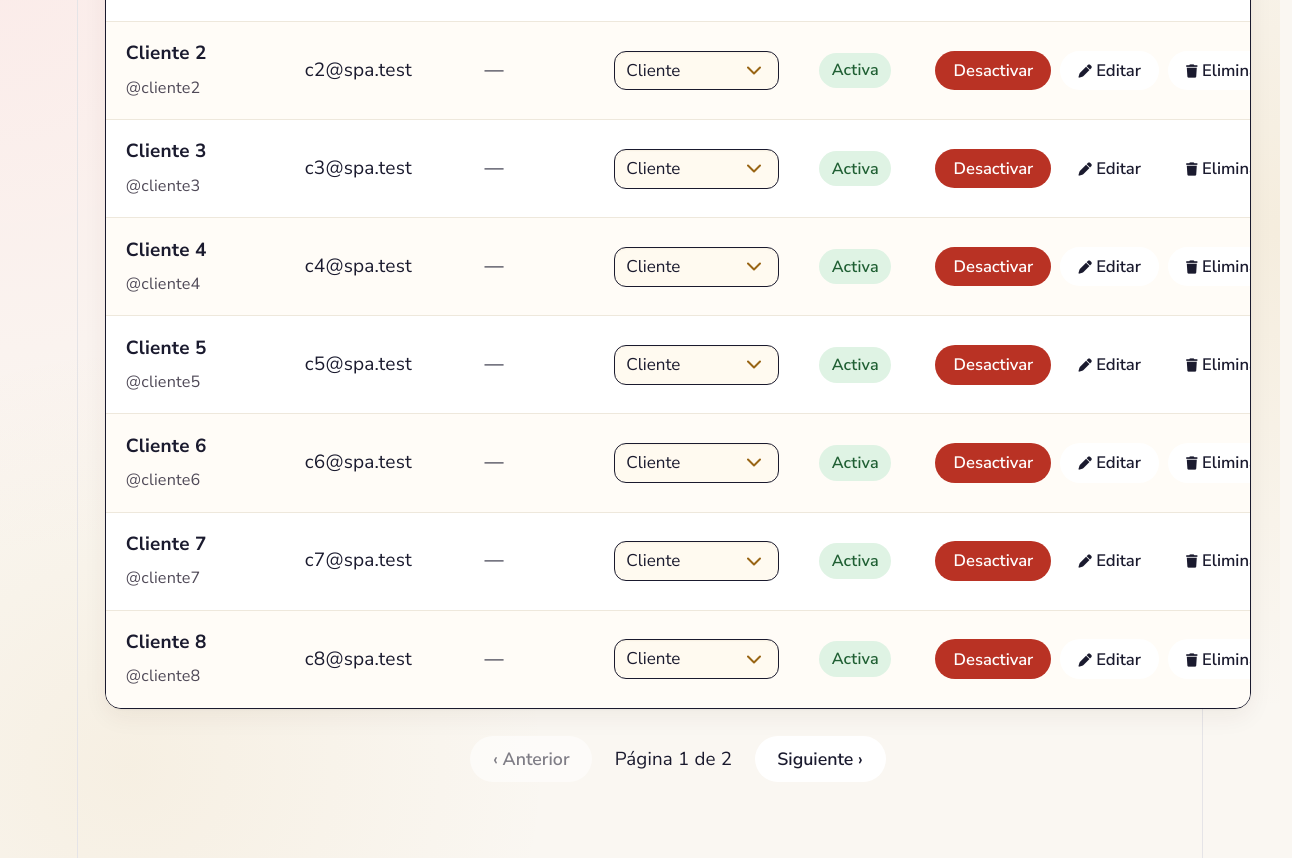
Test: AdminUsers › vuelve a la página anterior si eliminar deja vacía la última
(page scrolled)
Click the button "Siguiente ›" at point(820, 759), box [755, 736, 886, 782]
(page scrolled)
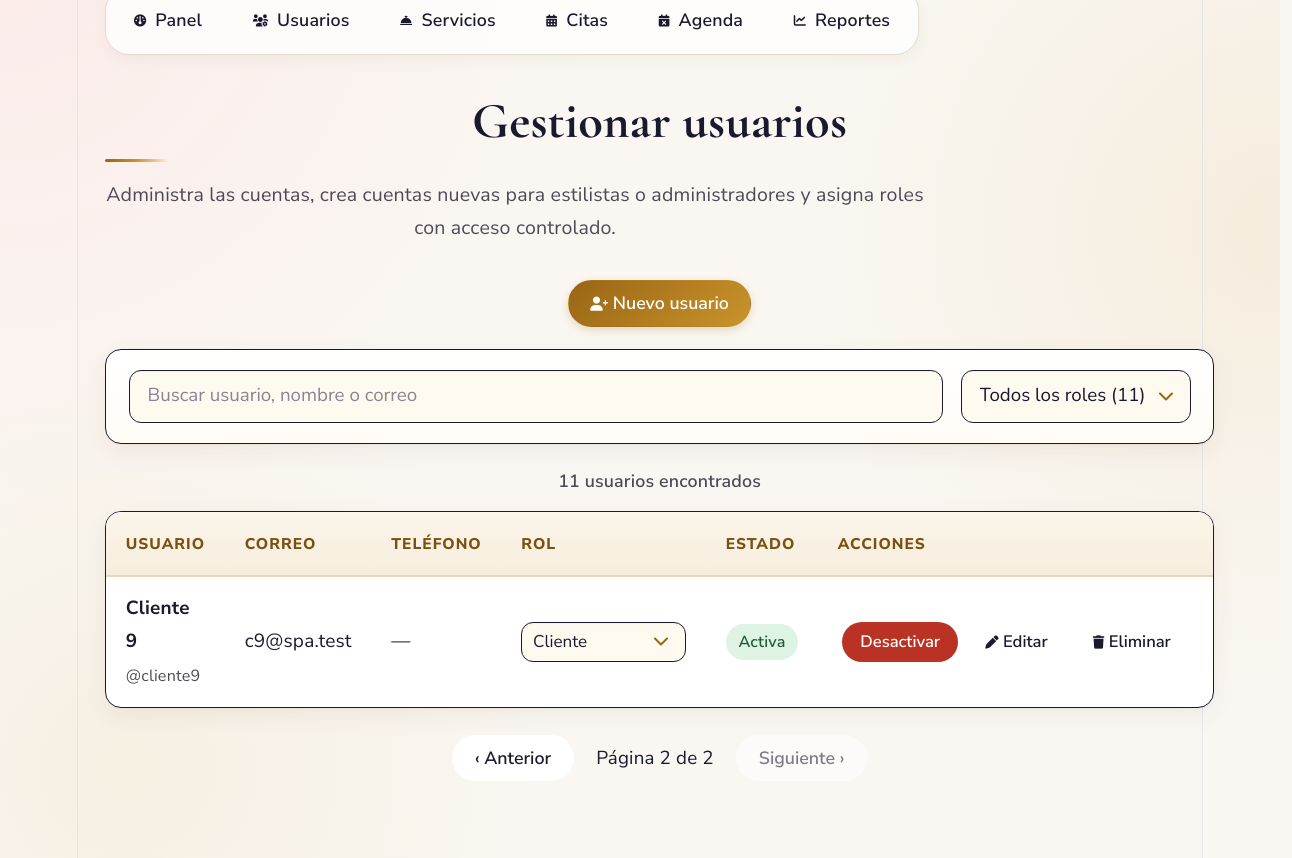
Expected: the text "Cliente 9" is shown, [126, 595, 190, 654]
Click the button with aria-label "Eliminar a cliente9" at point(1132, 642), box [1075, 622, 1189, 662]
(page scrolled)
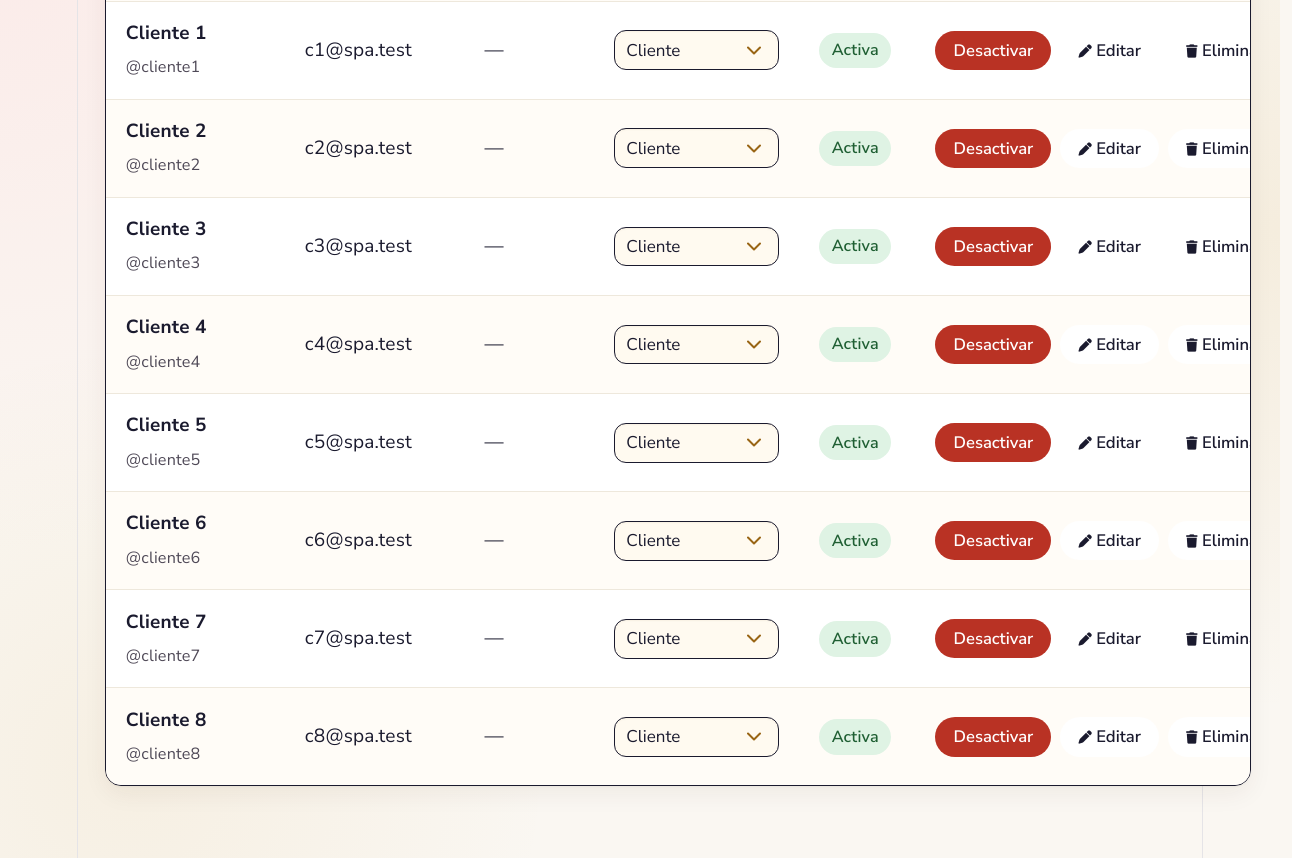
Expected: the text "Cliente 8" is shown, [126, 707, 206, 733]
